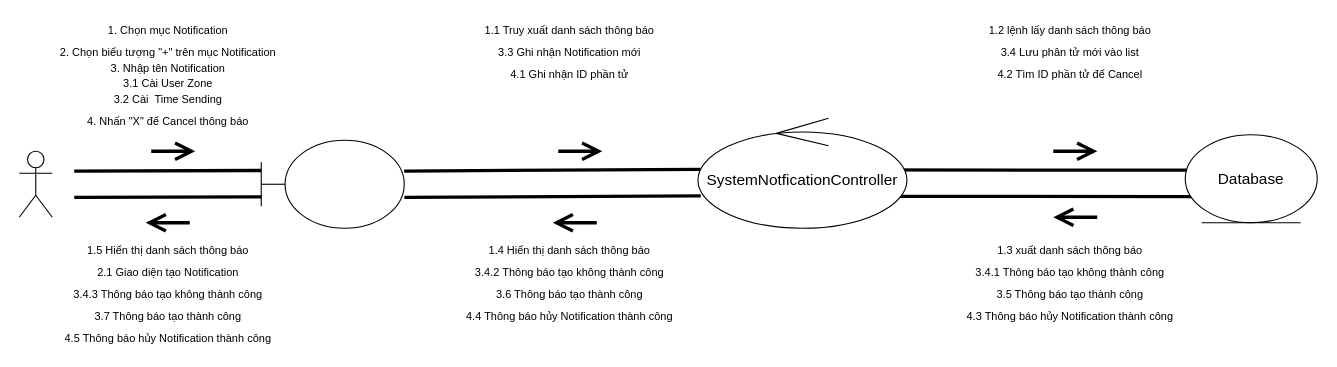
Some shapes in this 1337 by 367 pixel diagram are drawn without their labels. Each missing label, with the centre of its shape:
"Giao diện mục Notification" belongs at point (332, 183).
"User" belongs at point (35, 183).
